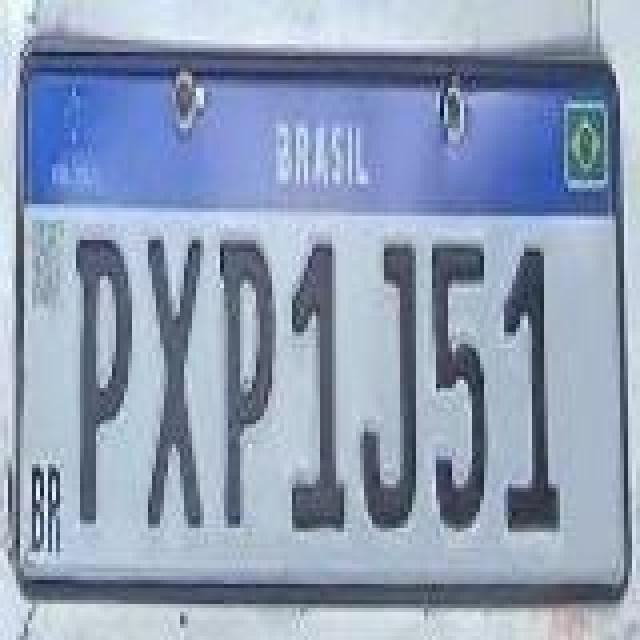1: (498, 246, 558, 538), (292, 246, 348, 538)
5: (428, 246, 484, 538)
J: (362, 246, 422, 538)
P: (76, 240, 132, 528), (220, 240, 276, 528)
X: (146, 236, 206, 532)
